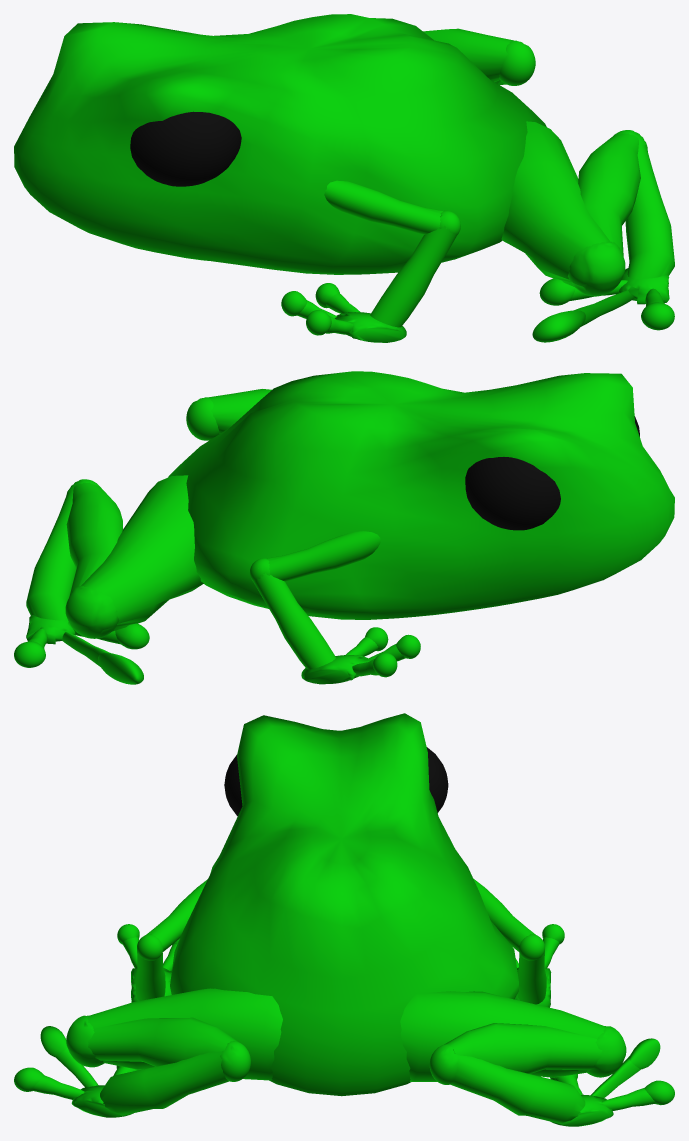
The model's file is Frog.obj.
The picture shows the model from 3 angles, top to bottom: view 1: azimuth 30°, elevation 25°; view 2: azimuth 150°, elevation 25°; view 3: azimuth 270°, elevation 25°; orthographic projection. The views are drawn at different scales.
Parts seen in each view (by area): view 1: Frog; view 2: Frog; view 3: Frog.
Part boxes in pixels (left/top/right/bottom): Frog: left=14, top=14, right=674, bottom=342; Frog: left=14, top=371, right=674, bottom=684; Frog: left=14, top=713, right=674, bottom=1126.
Size of the model in its own units: 114 by 47.39 by 127.
